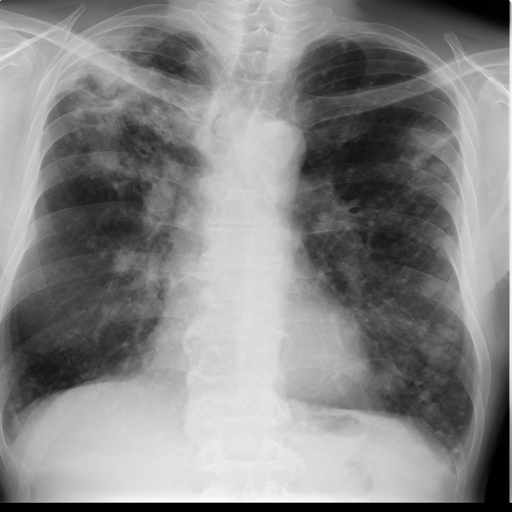TB: (64, 53, 173, 131), (395, 119, 450, 181), (86, 149, 132, 192)
